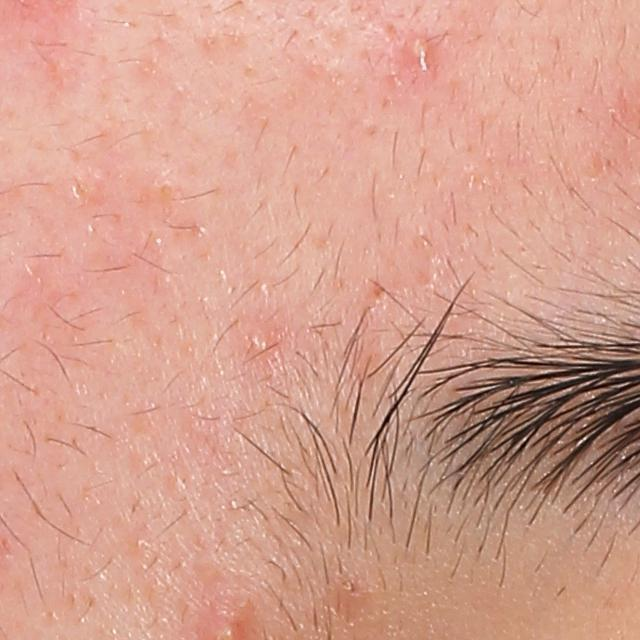comedo: (151, 177, 180, 204)
pustule: (244, 323, 283, 362), (401, 31, 434, 65)
